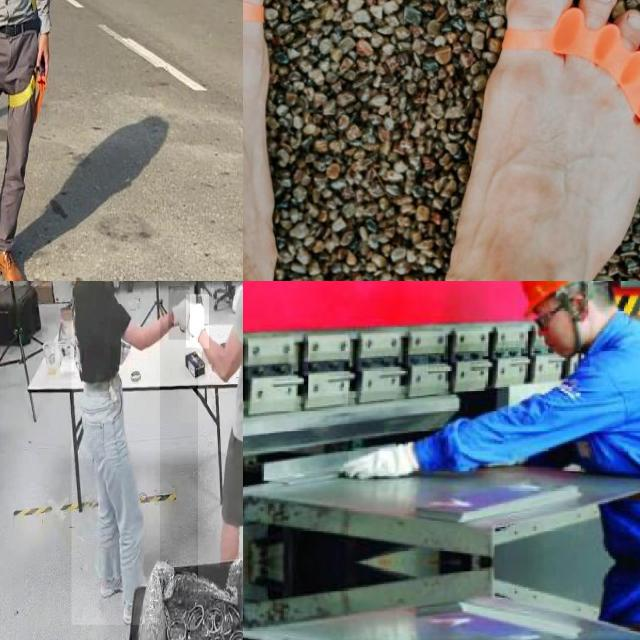Harness: (0, 67, 45, 122)
No_Ear-Protection: (568, 293, 590, 325)
face_nomask: (538, 315, 576, 357)
hand_glove: (338, 444, 418, 478), (186, 294, 209, 348), (168, 286, 190, 341)
person: (71, 281, 160, 625), (197, 281, 243, 595)
shoes: (96, 561, 134, 597)
